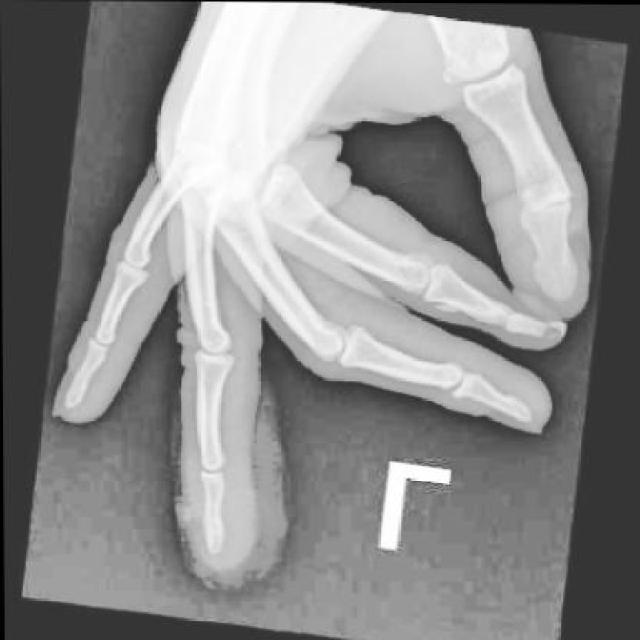Fracture: (523, 314, 570, 356)
